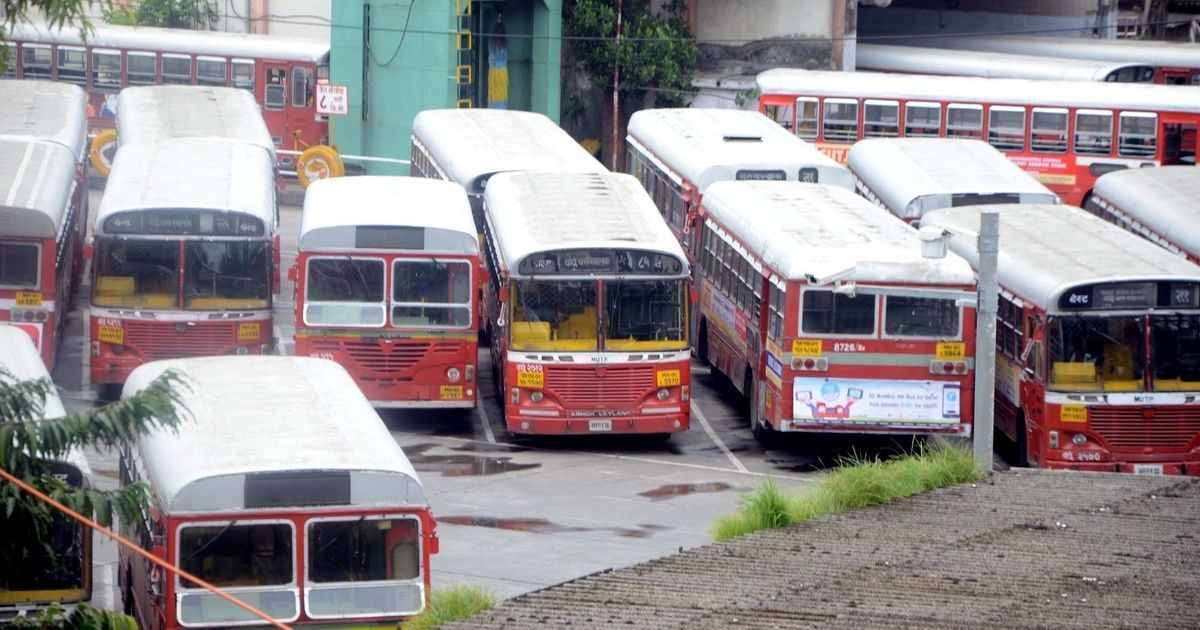bus: (118, 349, 442, 630), (698, 182, 990, 485), (947, 209, 1200, 480), (492, 172, 690, 469), (80, 142, 280, 389), (297, 169, 486, 399), (2, 145, 81, 345)
